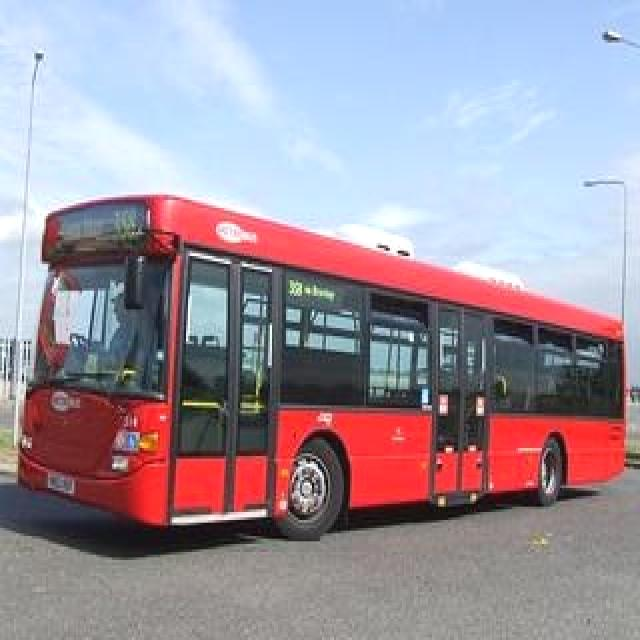Bus: (9, 175, 640, 549)
